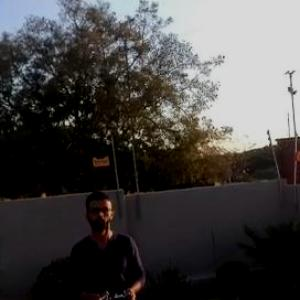follow: (65, 187, 158, 299)
